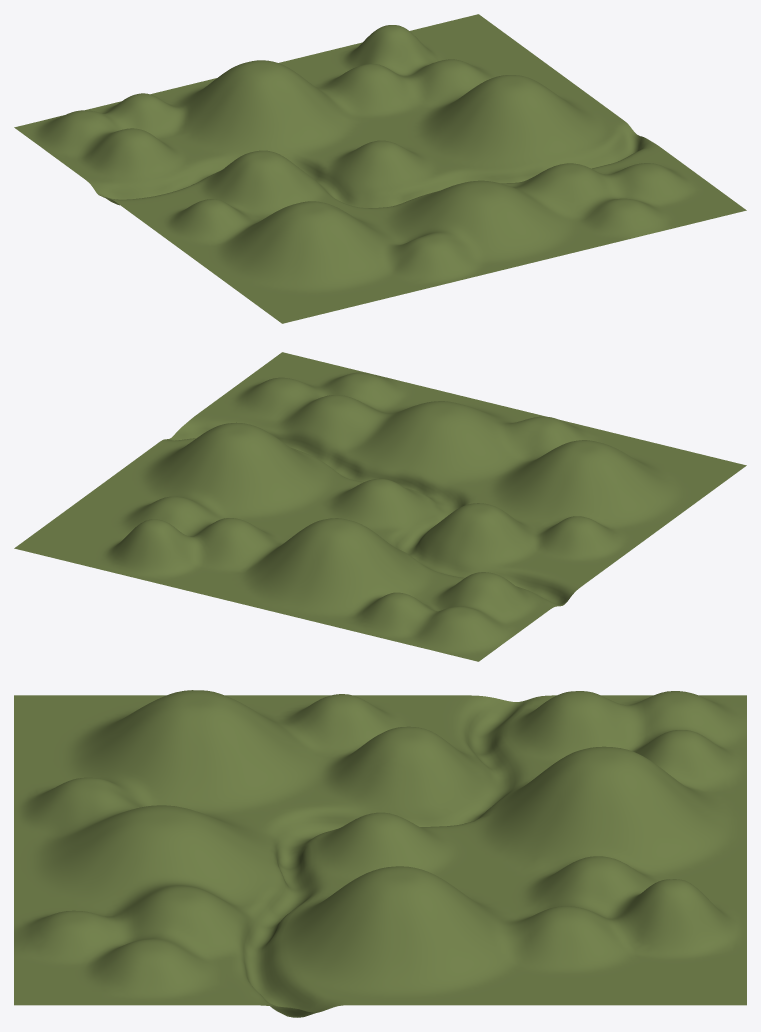
The model's file is Mapa 1.fbx.
The picture shows the model from 3 angles, top to bottom: view 1: azimuth 30°, elevation 25°; view 2: azimuth 150°, elevation 25°; view 3: azimuth 270°, elevation 25°; orthographic projection. The views are drawn at different scales.
Parts seen in each view (by area): view 1: Mapa; view 2: Mapa; view 3: Mapa.
Part boxes in pixels (x1,y1,x2,y2): Mapa: (14, 14, 746, 323); Mapa: (14, 352, 746, 661); Mapa: (14, 690, 746, 1017).
Bounding box in the file's own units: 80235 × 10949 × 80000.
